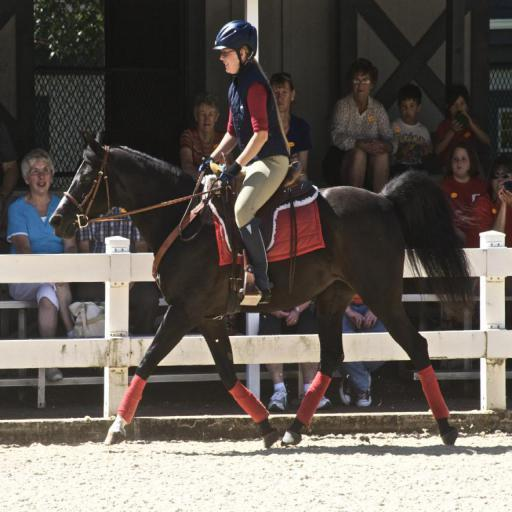horse: (48, 132, 473, 446)
